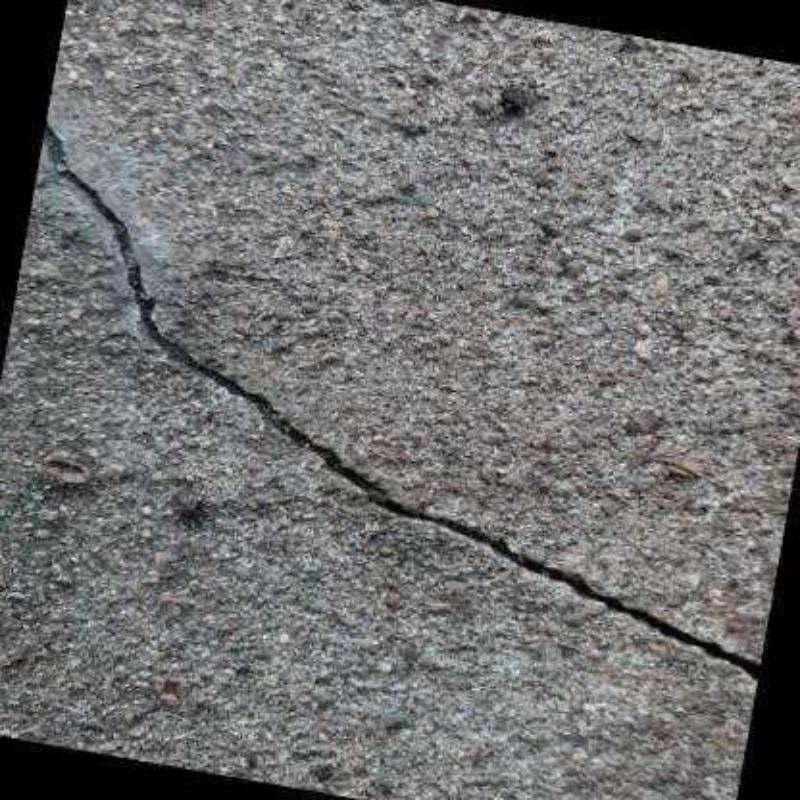pothole: (39, 119, 759, 686)
